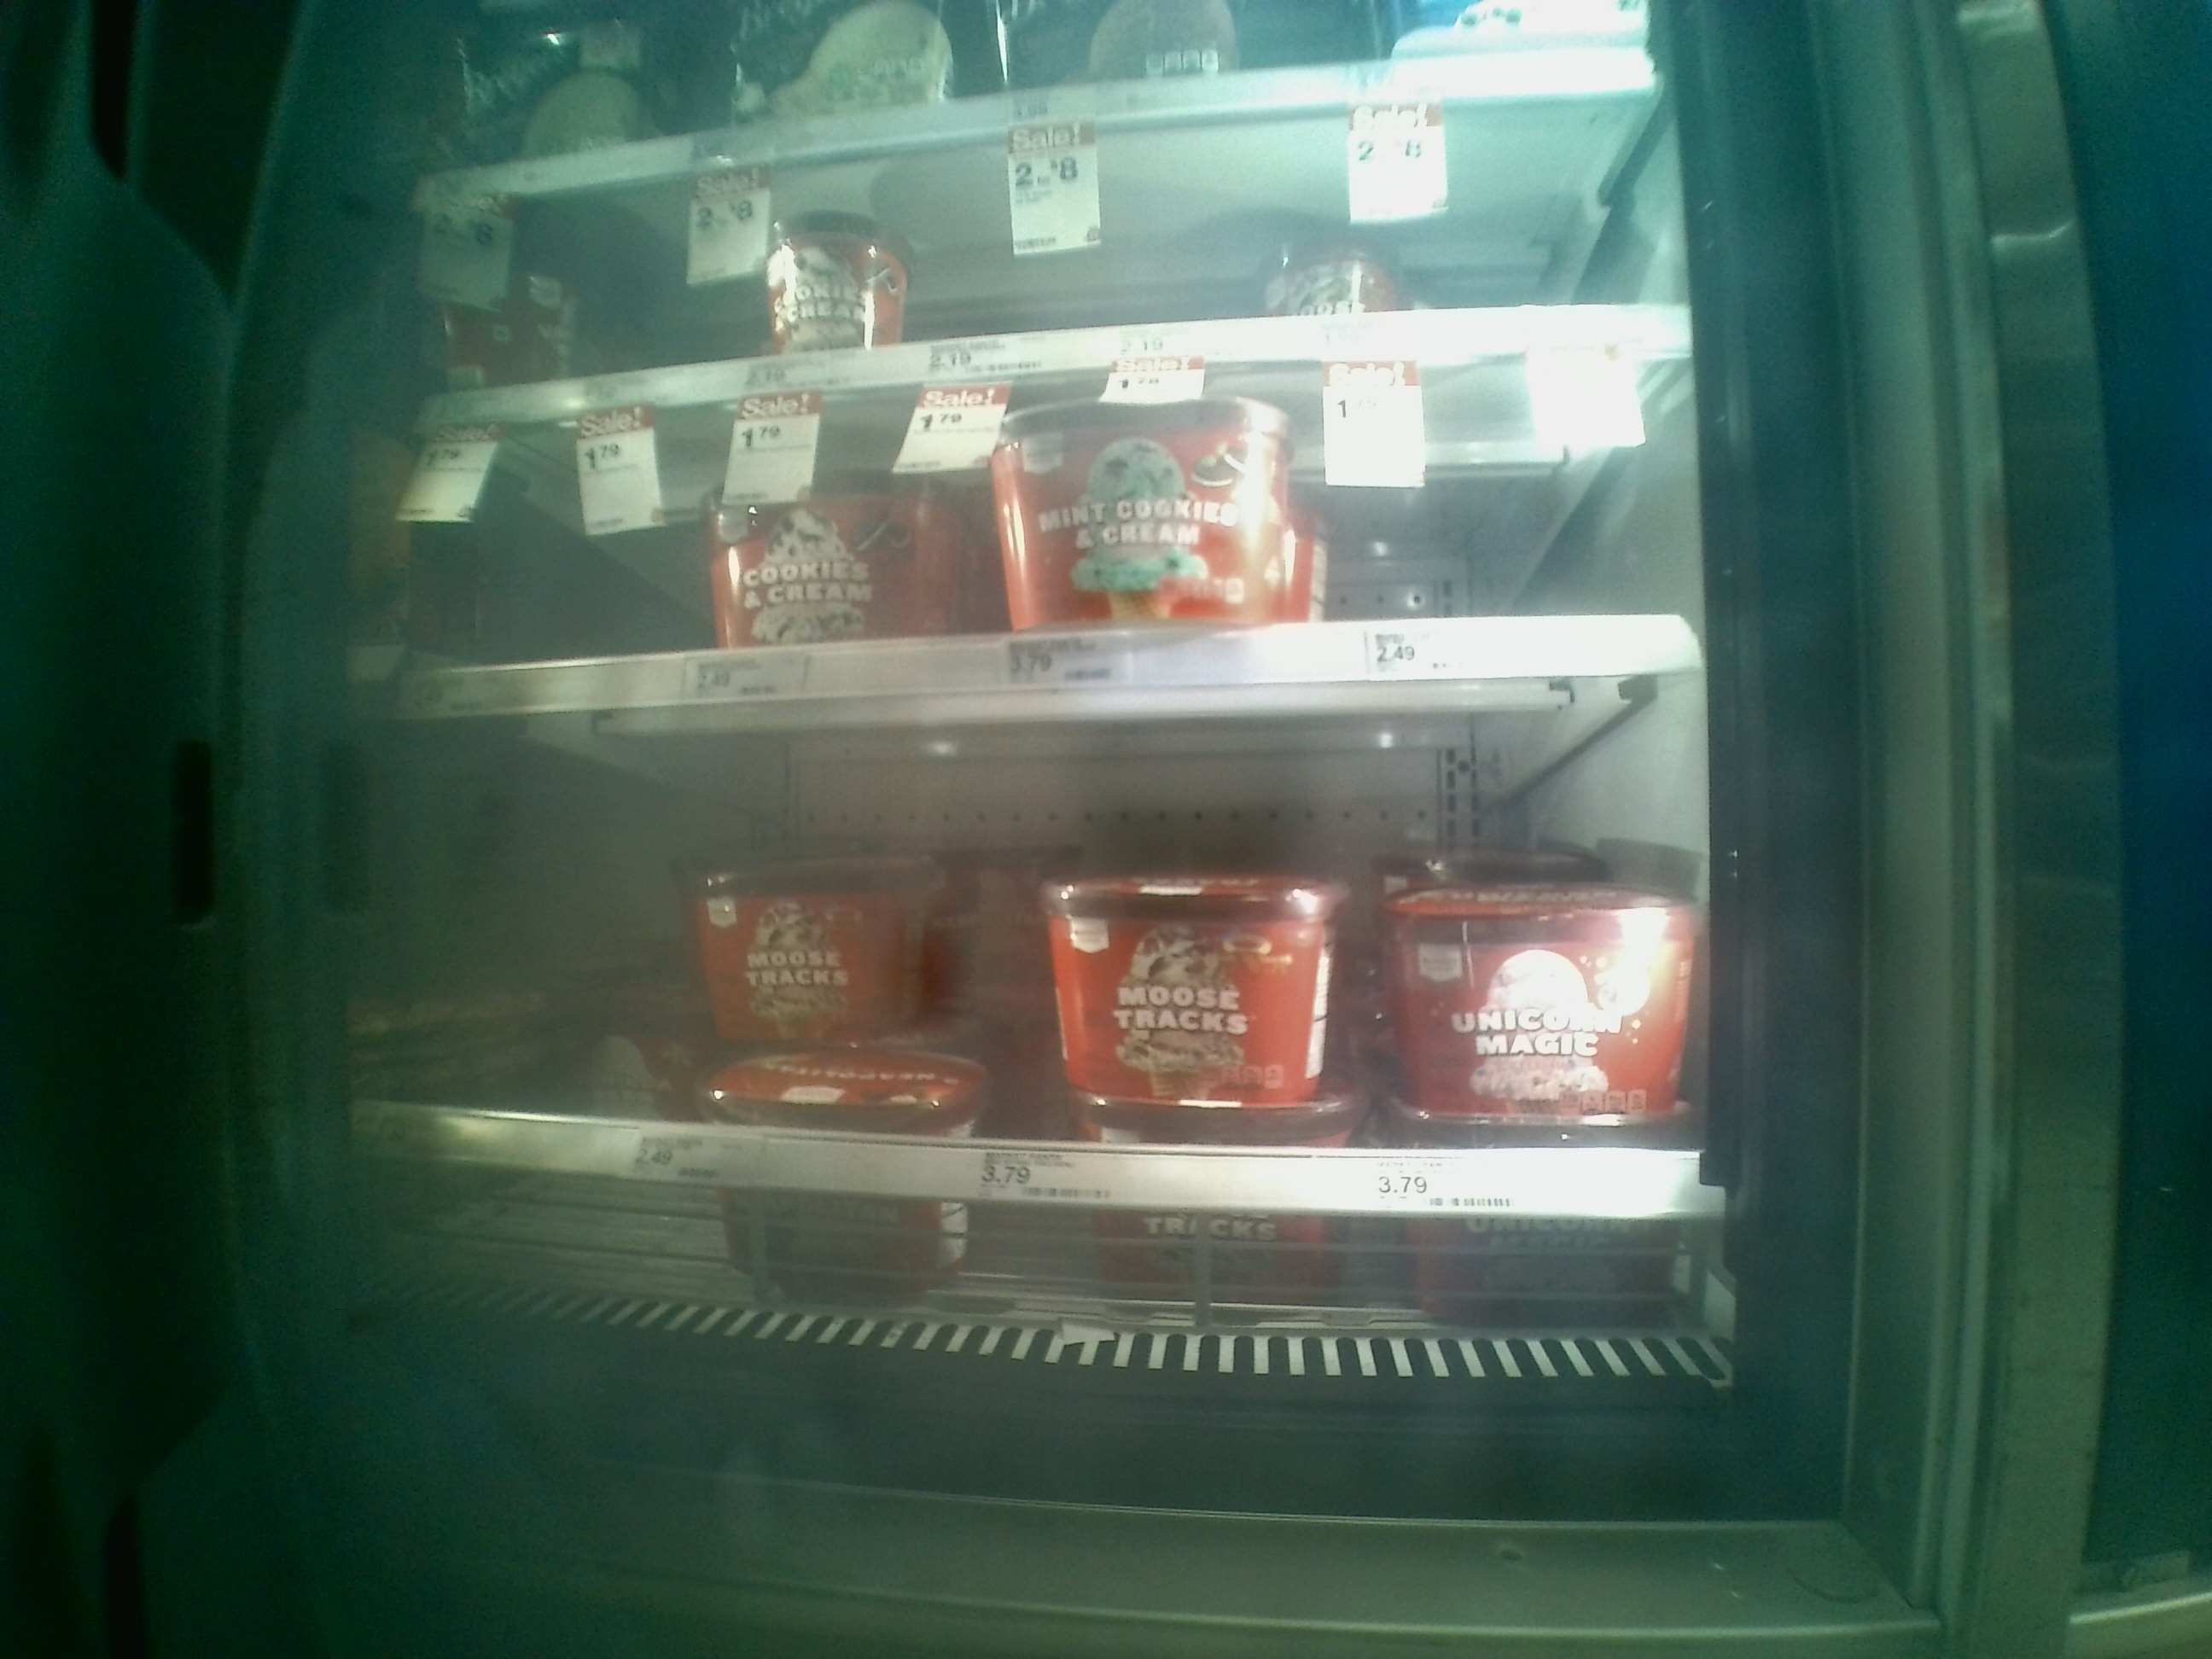ice-cream-shelf: (374, 708, 1702, 1230), (374, 364, 1709, 706)
